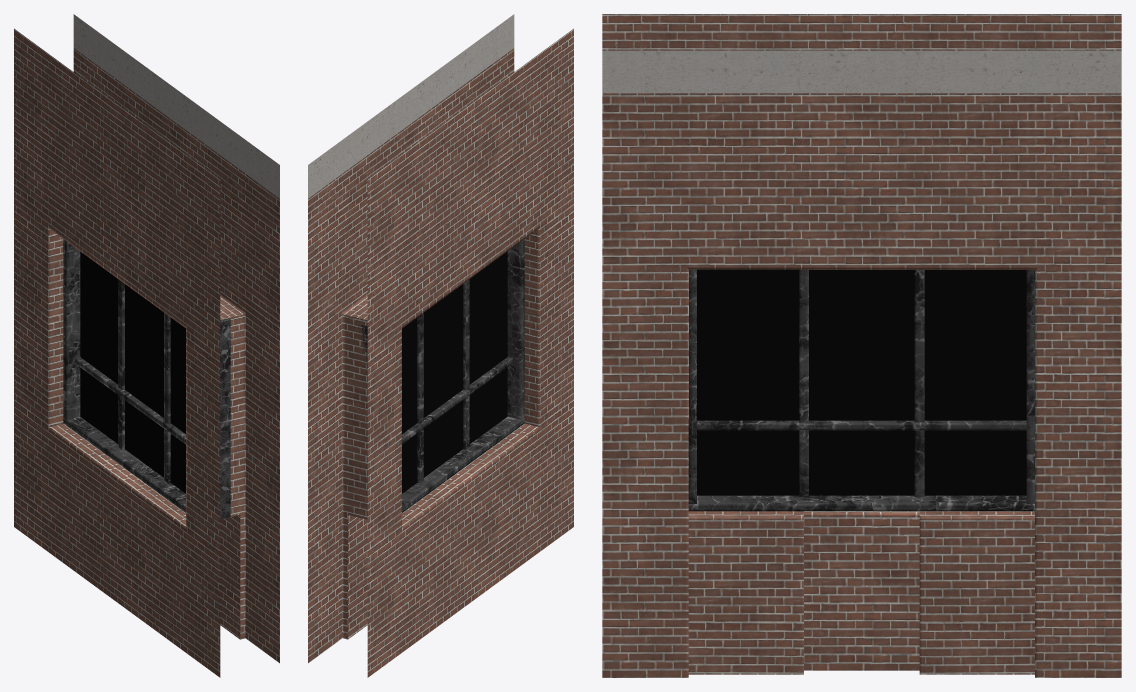
Rendered from BuildingC_Bottom_Wall_VarB_mdl.fbx.
3 renders of one model, left to right at view 1: azimuth 30°, elevation 25°; view 2: azimuth 150°, elevation 25°; view 3: azimuth 270°, elevation 25°, orthographic. The views are drawn at different scales.
Parts seen in each view (by area): view 1: BuildingC_Bottom_Wall_VarB_LOD0; view 2: BuildingC_Bottom_Wall_VarB_LOD0; view 3: BuildingC_Bottom_Wall_VarB_LOD0.
Part boxes in pixels (x1,y1,x2,y2): BuildingC_Bottom_Wall_VarB_LOD0: (14, 14, 279, 677); BuildingC_Bottom_Wall_VarB_LOD0: (308, 14, 573, 677); BuildingC_Bottom_Wall_VarB_LOD0: (602, 14, 1121, 677).
Size of what is drawn, in the model's own units: 50 by 400 by 300.
